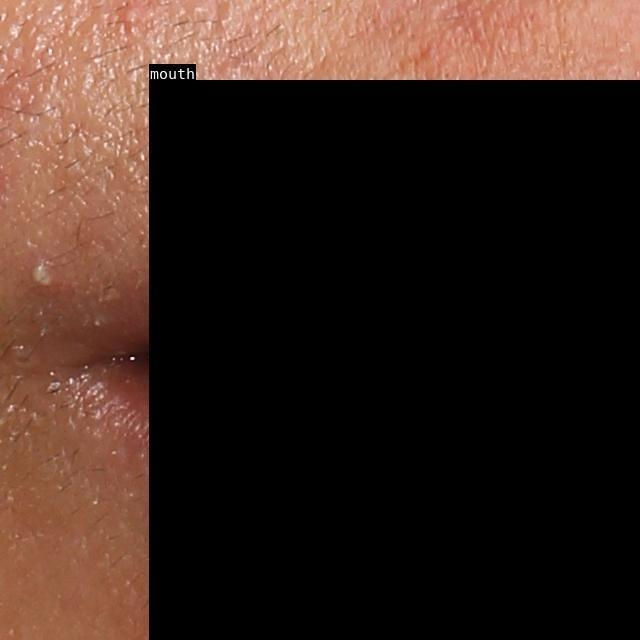pustule: (28, 256, 60, 297)
